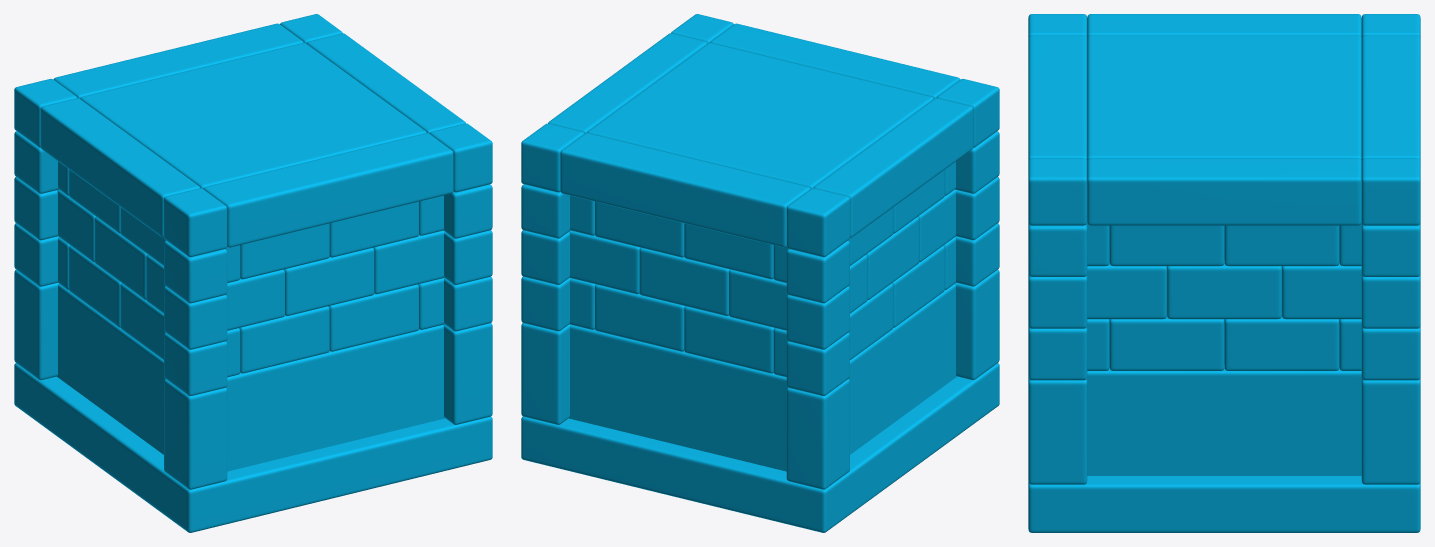
Rendered from SM_Brick_Body_01.fbx.
3 views of the same model, side by side, from view 1: azimuth 30°, elevation 25°; view 2: azimuth 150°, elevation 25°; view 3: azimuth 270°, elevation 25° (orthographic). The views are drawn at different scales.
Visible parts, largest first — view 1: SM_Brick_Body_01; view 2: SM_Brick_Body_01; view 3: SM_Brick_Body_01.
Part boxes in pixels (x1,y1,x2,y2): SM_Brick_Body_01: [14, 14, 492, 532]; SM_Brick_Body_01: [521, 14, 999, 532]; SM_Brick_Body_01: [1028, 14, 1420, 532].
Size of the model in its own units: 2.5 by 2.5 by 2.5.
